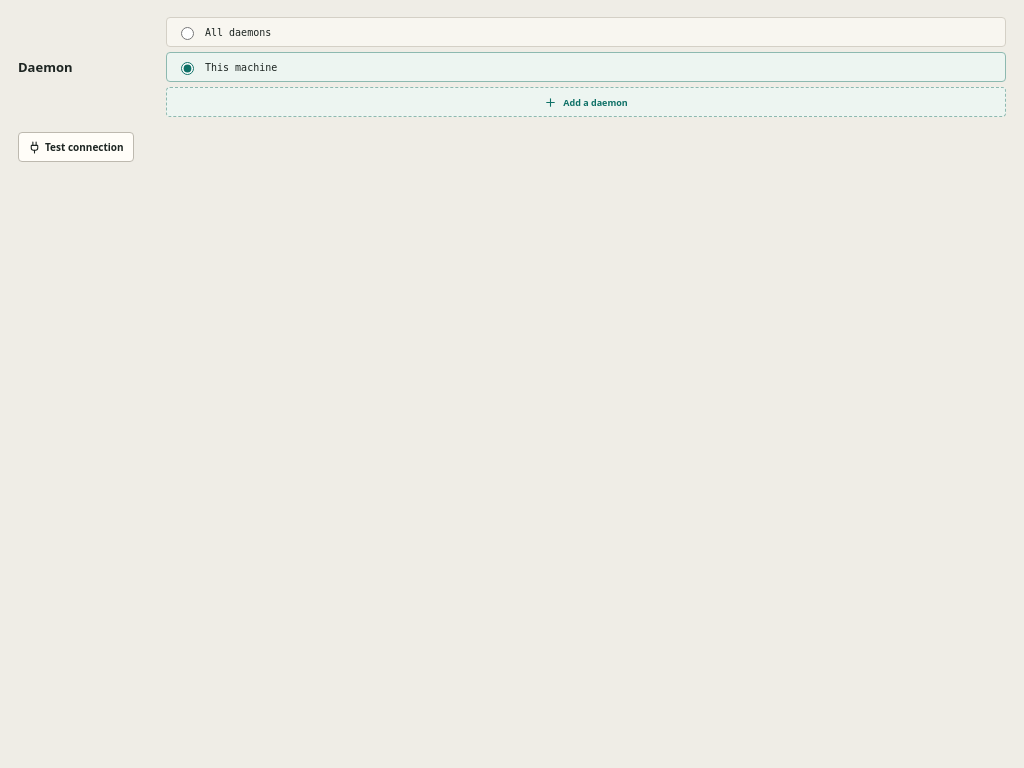
Test: EndpointsPanel › adds a daemon as a local draft, saving nothing until it is valid
The image size is (1024, 768).
Click the button with test id "add-deck". click: (586, 102)
box: [166,87,1006,117]
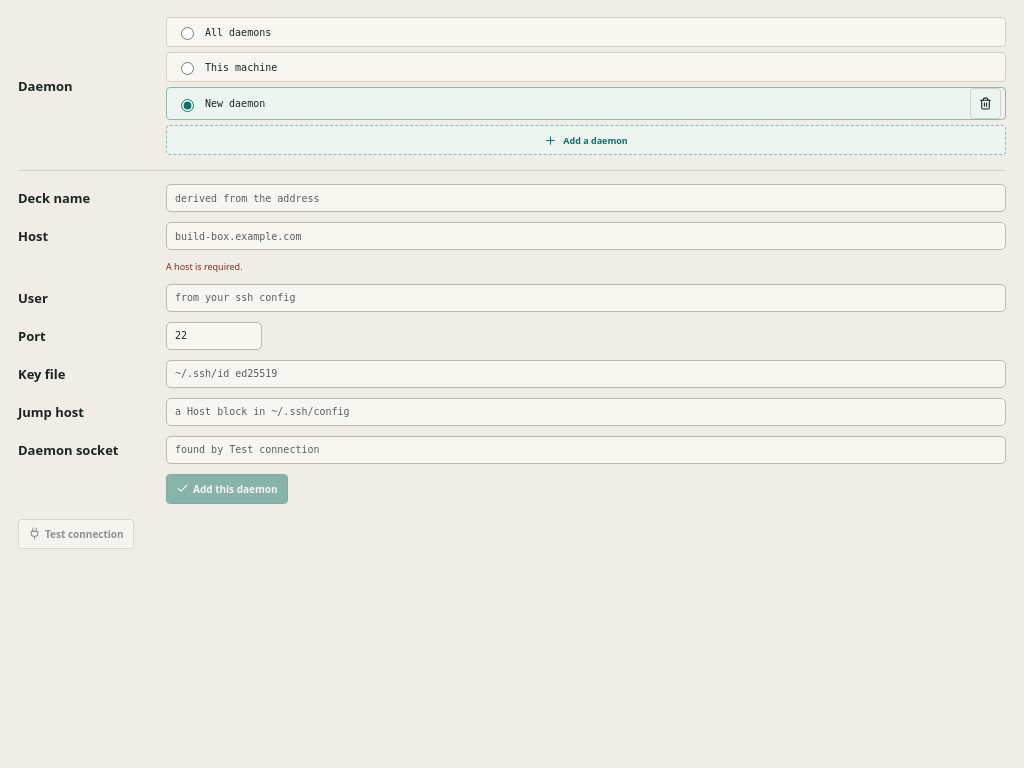
Check: the element with test id "deck-detail" is shown, box [18,170,1006,504]
Check: the field labelled "Host" is empty, box [166,222,1006,250]
Check: the text "New daemon" is shown, box [205,98,265,109]
